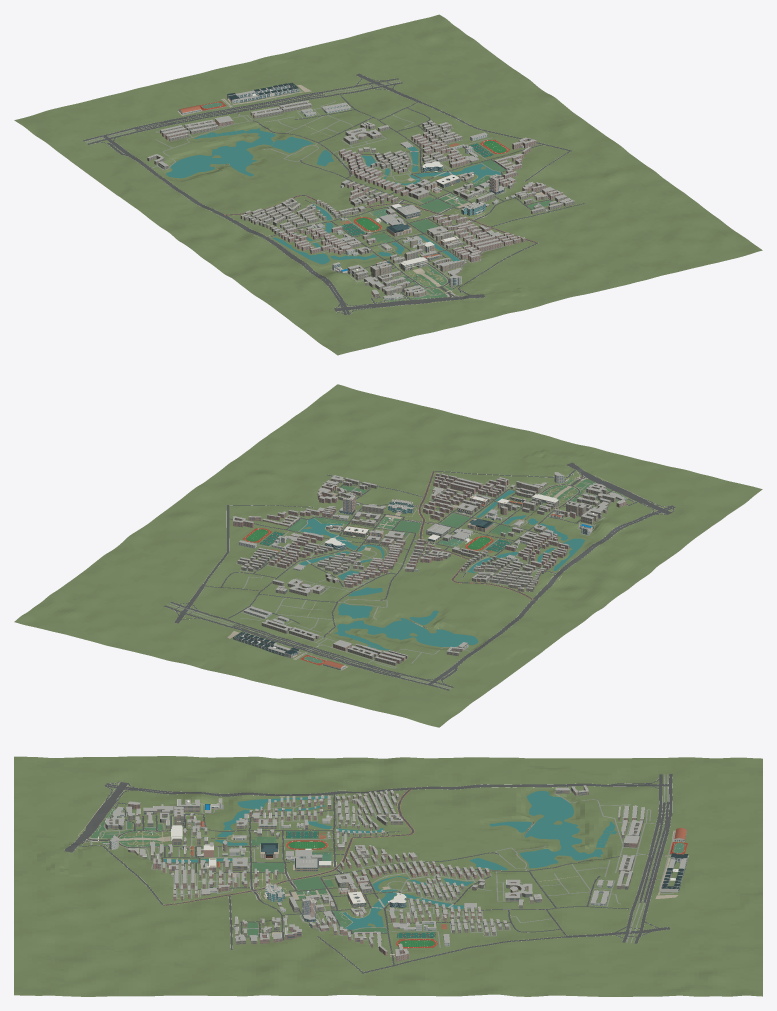
3 views of the same model, one above another, from view 1: azimuth 30°, elevation 25°; view 2: azimuth 150°, elevation 25°; view 3: azimuth 270°, elevation 25° (orthographic). The views are drawn at different scales.
Visible parts, largest first — view 1: terrain.001, roads.001, water.001, green.001, chunk-n2-n1, chunk-n2-n3, chunk-p1-p0, chunk-n1-n3, chunk-n2-n2, chunk-p1-n2, chunk-p0-p0, chunk-p0-n3 (+9 smaller); view 2: terrain.001, roads.001, water.001, green.001, chunk-n2-n1, chunk-n2-n3, chunk-p1-p0, chunk-n1-n3, chunk-p0-p0, chunk-n2-n2, chunk-p0-n3, chunk-p1-n2 (+8 smaller); view 3: terrain.001, roads.001, water.001, green.001, chunk-n2-n3, chunk-n2-n1, chunk-p1-p0, chunk-n1-n3, chunk-p0-p0, chunk-n2-n2, chunk-p1-n2, context (+13 smaller).
Part boxes in pixels (<box>): terrain.001: <box>14,14,762,355</box>; roads.001: <box>83,73,584,314</box>; water.001: <box>166,128,500,264</box>; green.001: <box>369,160,551,301</box>; chunk-n2-n1: <box>266,199,351,238</box>; chunk-n2-n3: <box>332,254,417,292</box>; chunk-p1-p0: <box>417,132,487,167</box>; chunk-n1-n3: <box>404,240,482,274</box>; chunk-n2-n2: <box>299,229,376,255</box>; chunk-p1-n2: <box>505,182,574,214</box>; chunk-p0-p0: <box>355,141,436,176</box>; chunk-p0-n3: <box>458,228,525,251</box>; terrain.001: <box>14,384,762,727</box>; roads.001: <box>164,462,675,690</box>; water.001: <box>299,490,585,650</box>; green.001: <box>288,479,628,535</box>; chunk-n2-n1: <box>461,544,548,581</box>; chunk-n2-n3: <box>537,493,610,534</box>; chunk-p1-p0: <box>238,531,323,564</box>; chunk-n1-n3: <box>474,477,548,512</box>; chunk-p0-p0: <box>293,545,382,580</box>; chunk-n2-n2: <box>500,524,569,558</box>; chunk-p0-n3: <box>432,472,482,502</box>; chunk-p1-n2: <box>317,475,377,505</box>; terrain.001: <box>14,756,762,996</box>; roads.001: <box>64,774,675,973</box>; water.001: <box>164,791,616,929</box>; green.001: <box>91,808,387,936</box>; chunk-n2-n3: <box>135,798,222,835</box>; chunk-n2-n1: <box>305,798,388,839</box>; chunk-p1-p0: <box>389,904,473,946</box>; chunk-n1-n3: <box>139,832,219,876</box>; chunk-p0-p0: <box>406,869,476,910</box>; chunk-n2-n2: <box>236,799,304,838</box>; chunk-p1-n2: <box>233,915,302,944</box>; context: <box>90,801,417,860</box>.
Bounding box in the file's own units: 2442 × 96.44 × 3217.
Materials: 74 (10 with a texture image).
